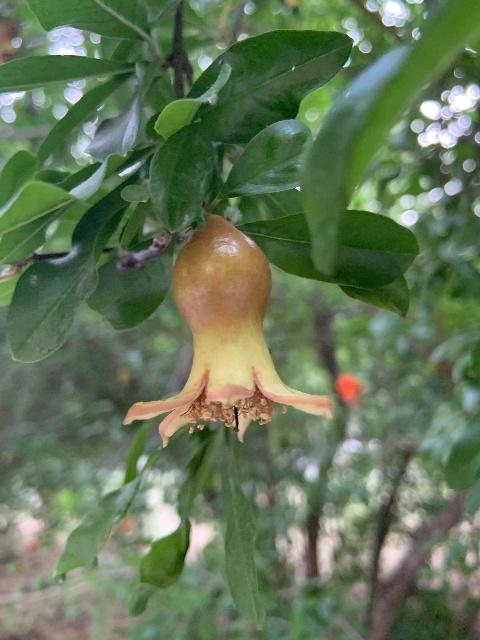early-fruit: (123, 213, 335, 446)
